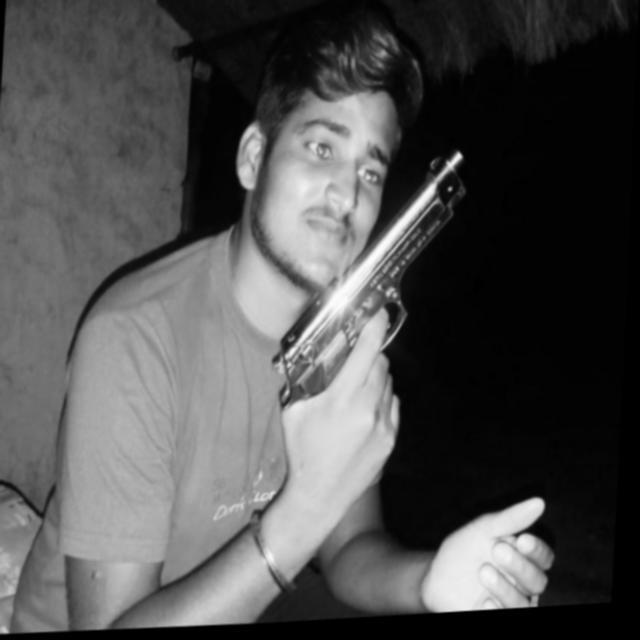weapon: (266, 144, 476, 487)
